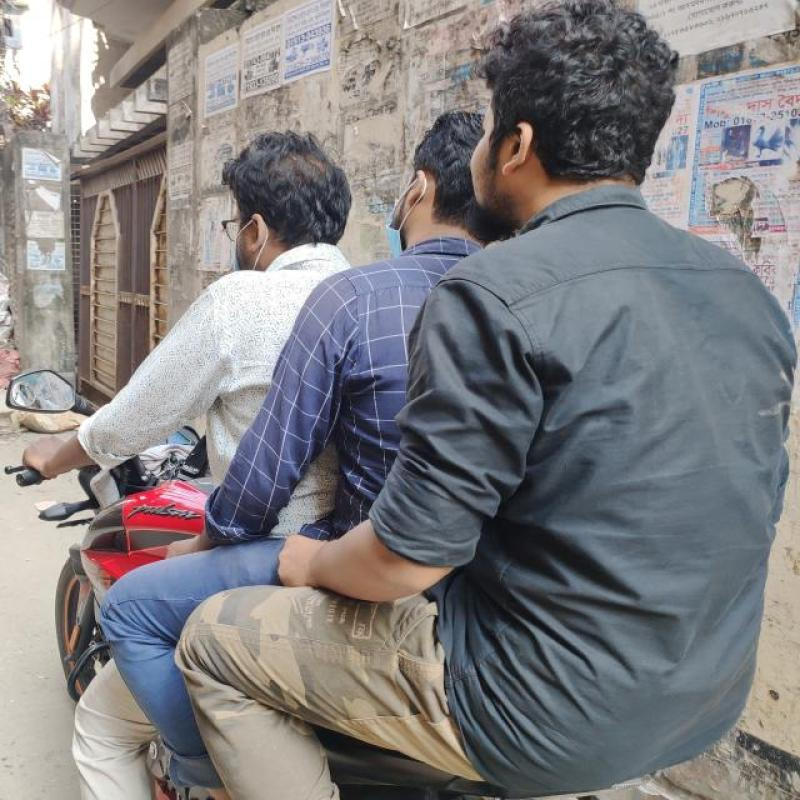nohelmet: (477, 15, 665, 210), (212, 129, 362, 267), (396, 96, 496, 260)
